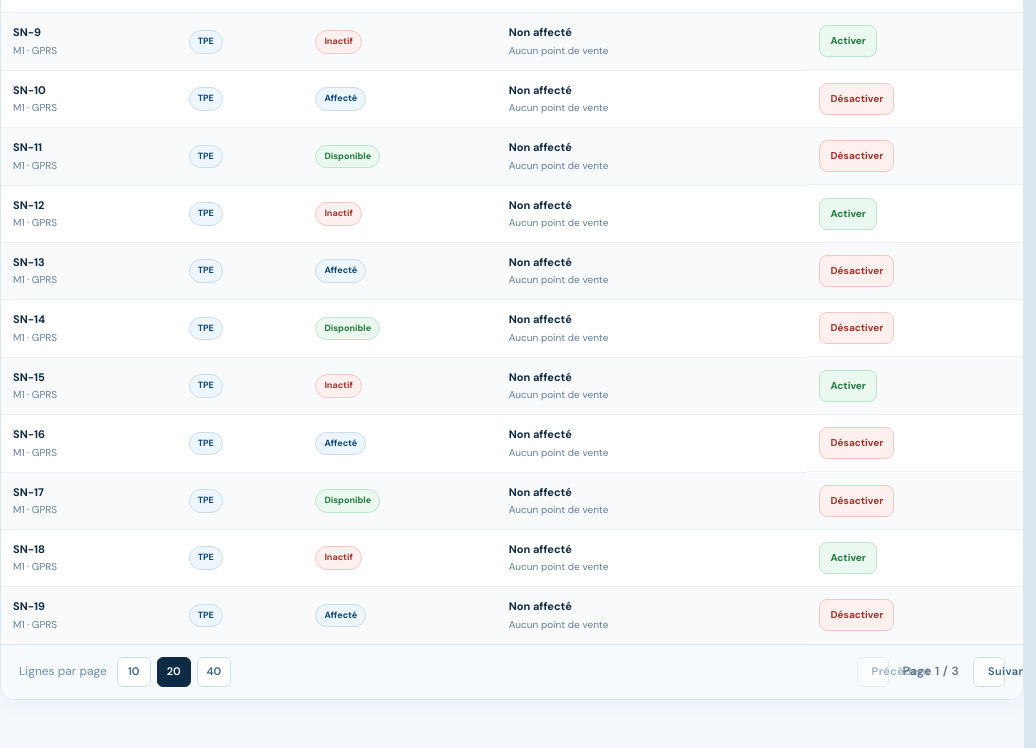
Test case: SupervisorTpeStockPage › pagine un stock volumineux et affiche des totaux corrects dans les cartes stats
The width and height of the screenshot is (1036, 748).
(page scrolled)
Expected: the text "Page 1 / 3" is shown, top-left (898, 663), bottom-right (963, 680)
Step 1. Click the button "Suivant" → [989, 672], box top-left (973, 657), bottom-right (1005, 687)
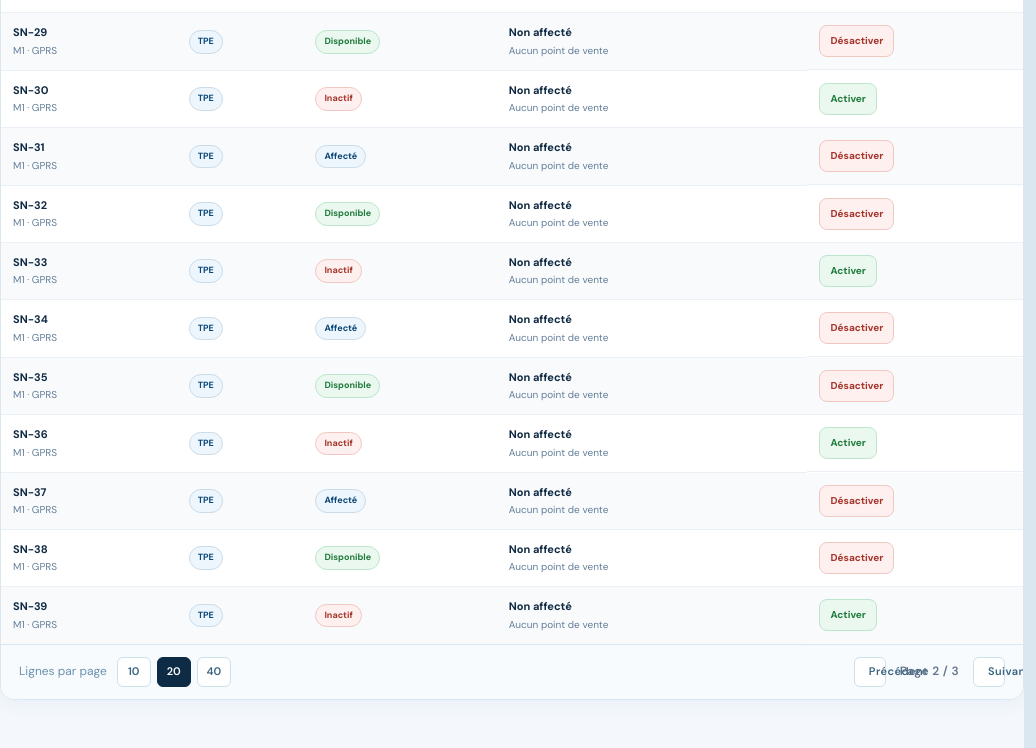
Expected: the text "Page 2 / 3" is shown, top-left (896, 663), bottom-right (963, 680)
